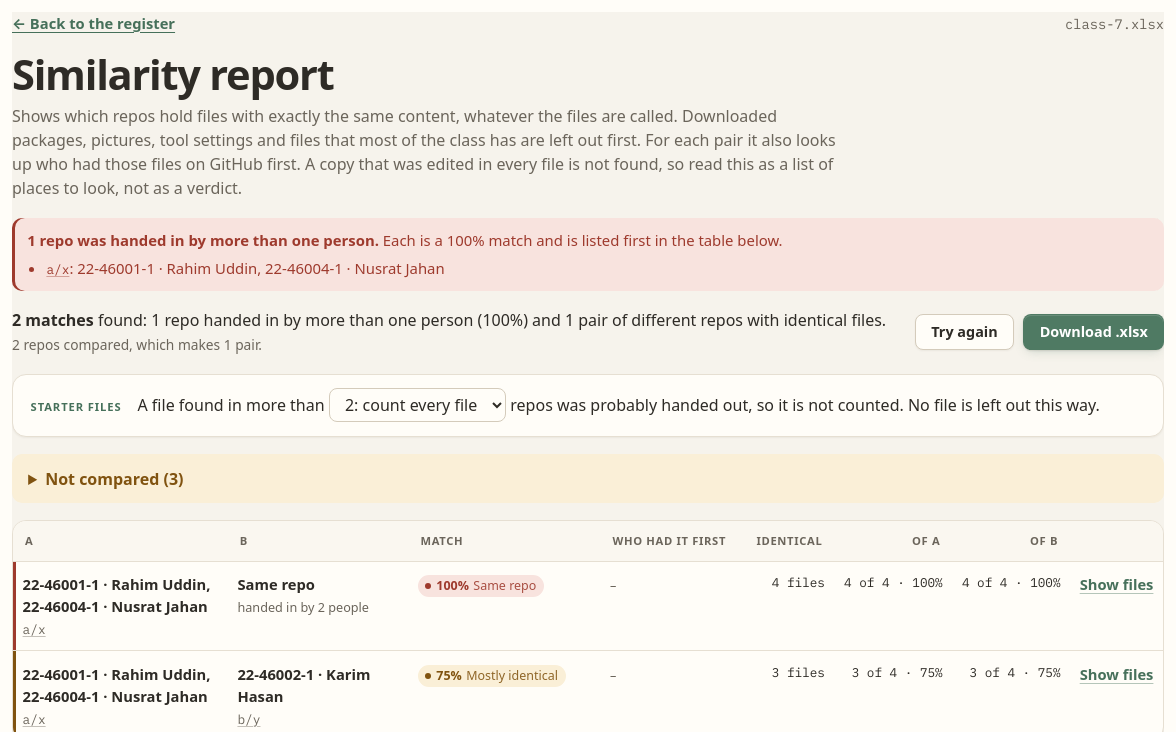
Scenario: SimilarityView › says why a file list could not be loaded, and tries again on request
Click the button "Try again". click: point(964, 332)
box: x1=915 y1=314 x2=1014 y2=350
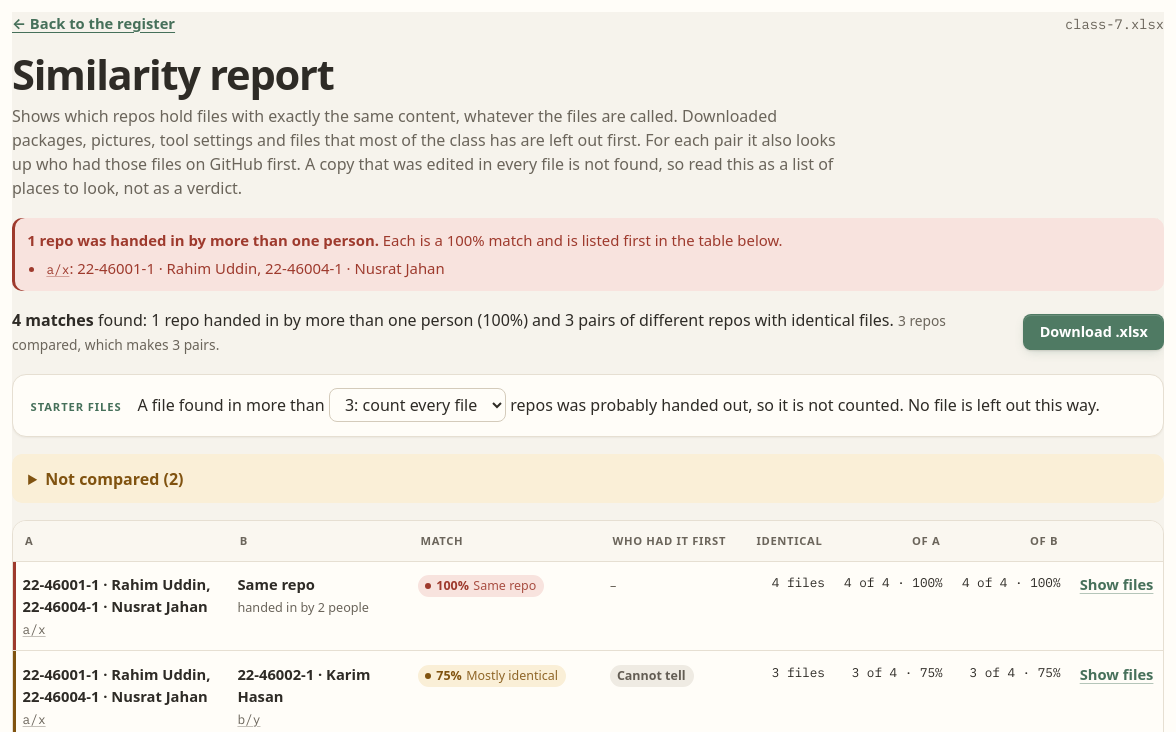
Check: the button "Try again" is gone
